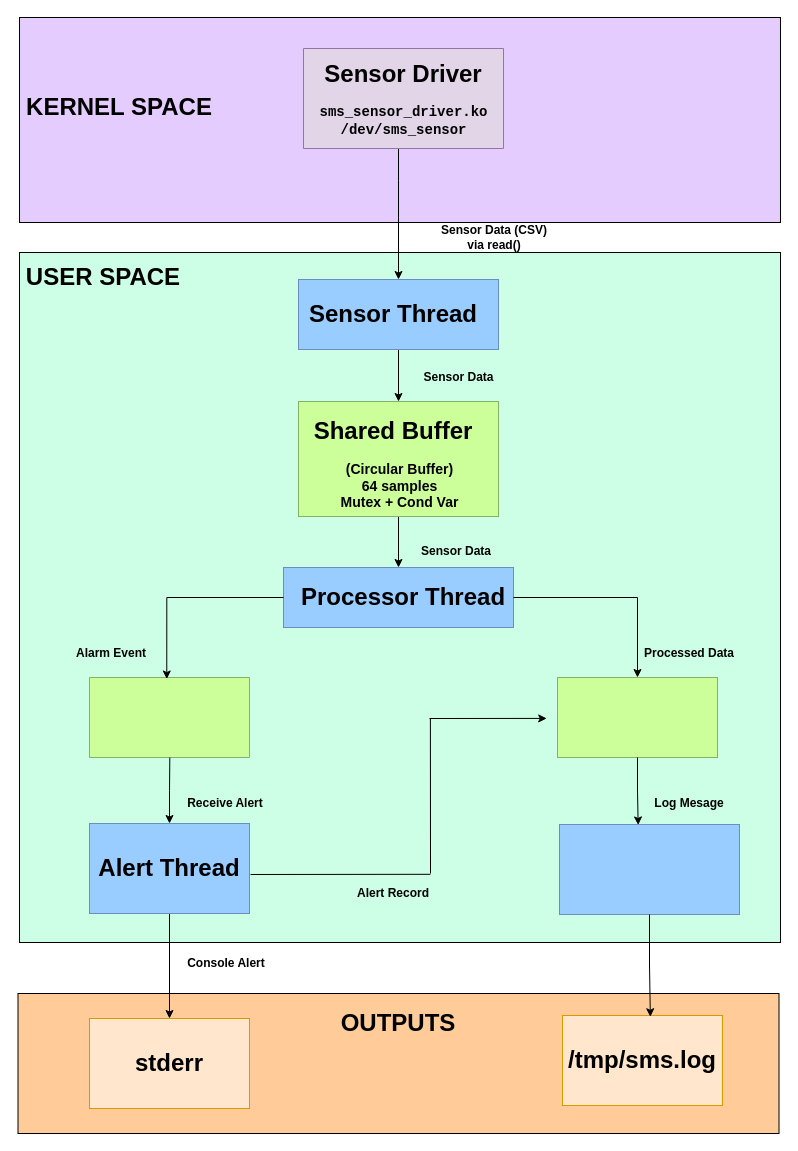
This 798x1151 diagram has some shape labels left out. The centre of each missing label's shape, as x and y in pixels:
"alarm_queue" goes at (169,717).
"log_queue" goes at (637,717).
"Logger Thread" goes at (649,869).
